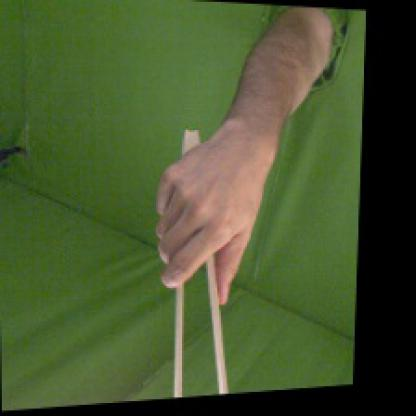Hand: (156, 116, 274, 306)
